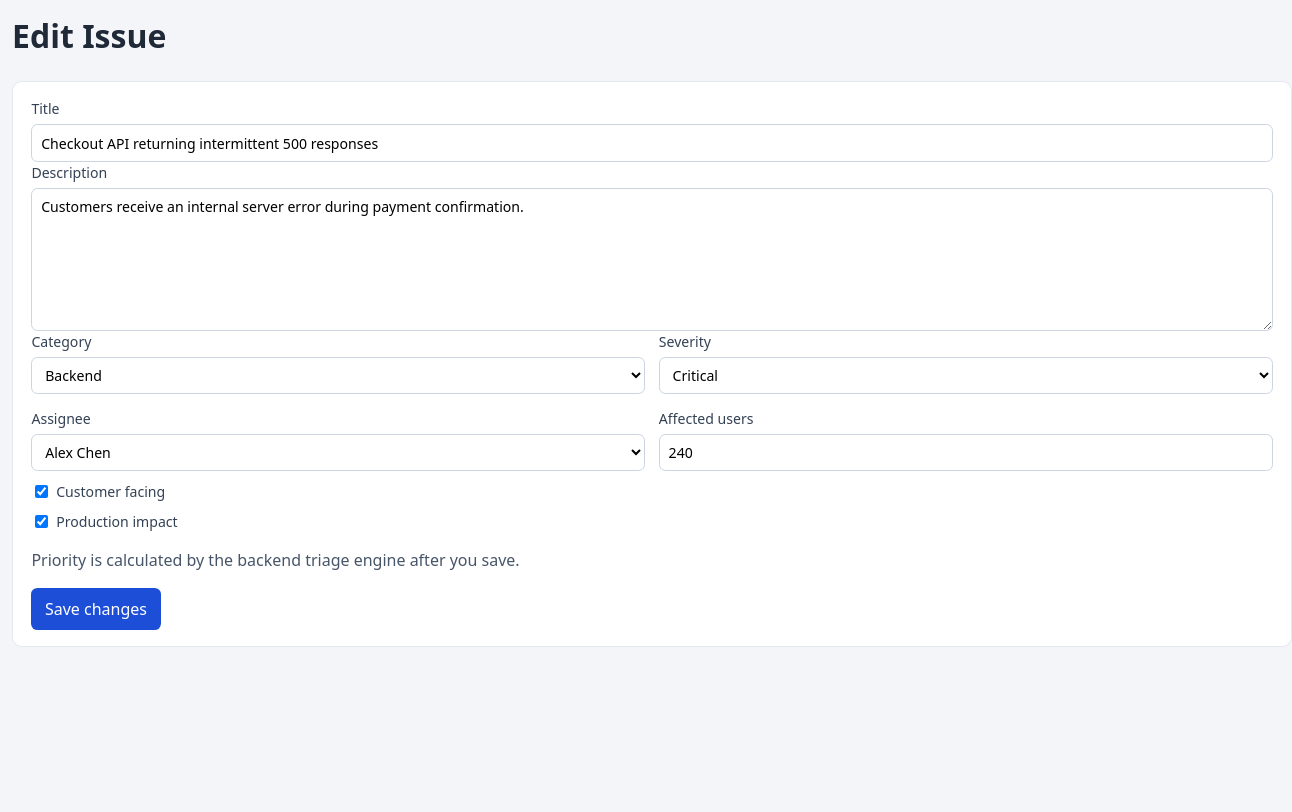
Test case: EditIssuePage › shows validation when the title is cleared
Clear the field labelled "Title". click: (652, 143)
box: [31, 124, 1273, 162]
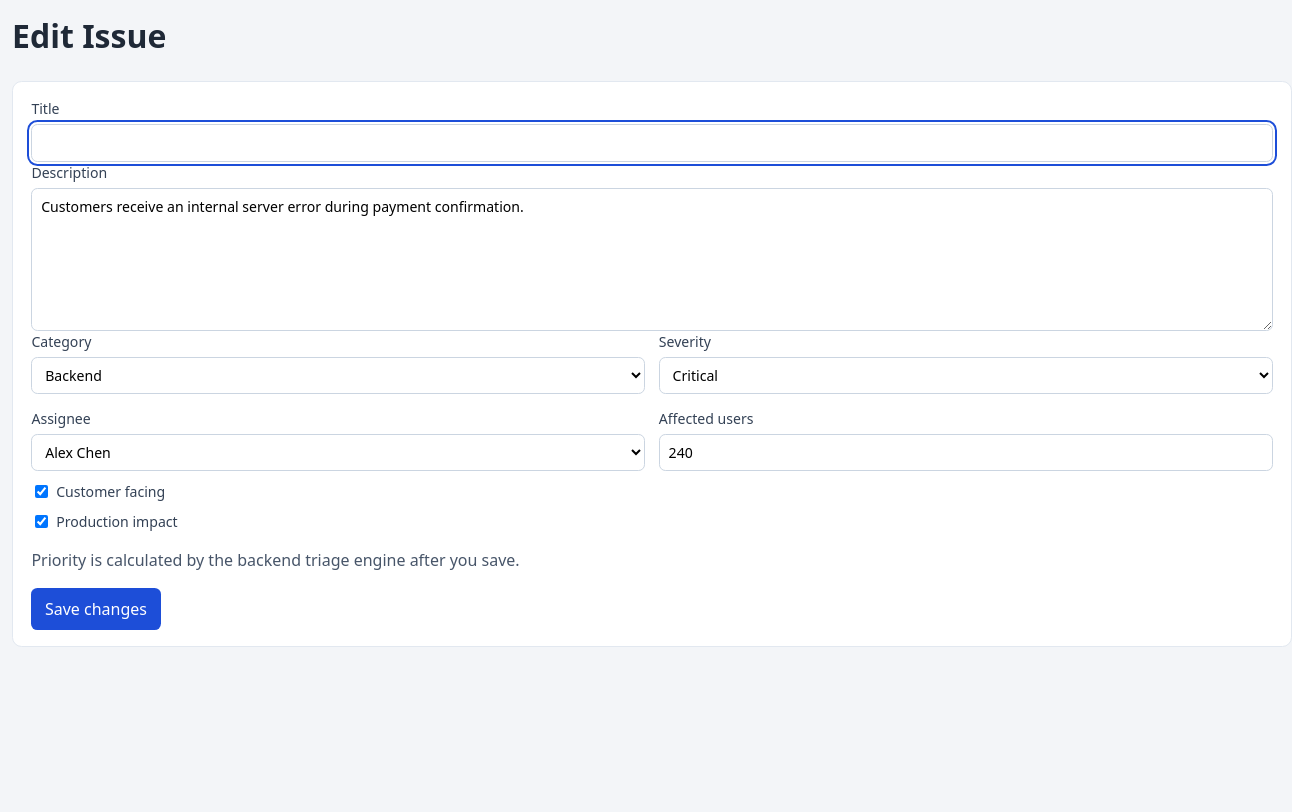
Click the button "Save changes". click: click(96, 609)
box: [31, 588, 161, 630]
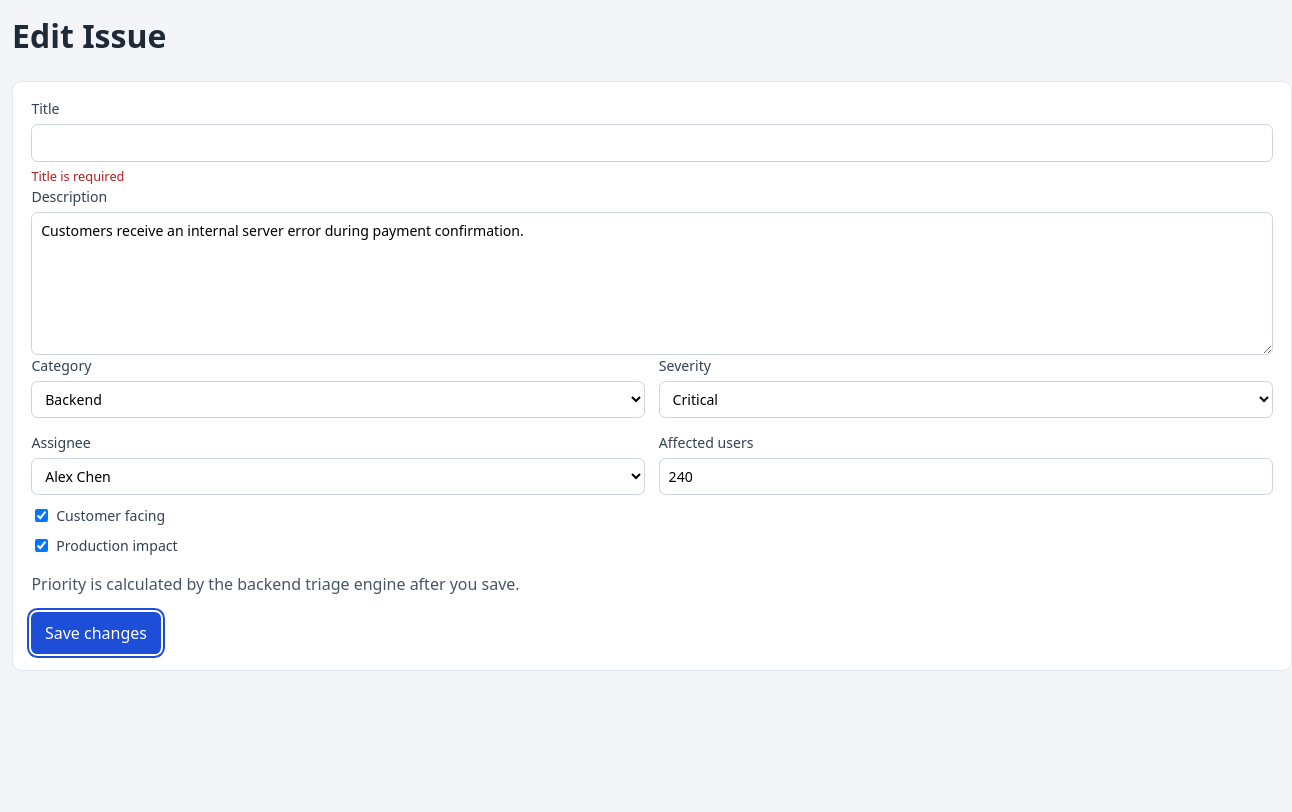
Check: the text "Title is required" is shown, box [31, 167, 124, 185]
